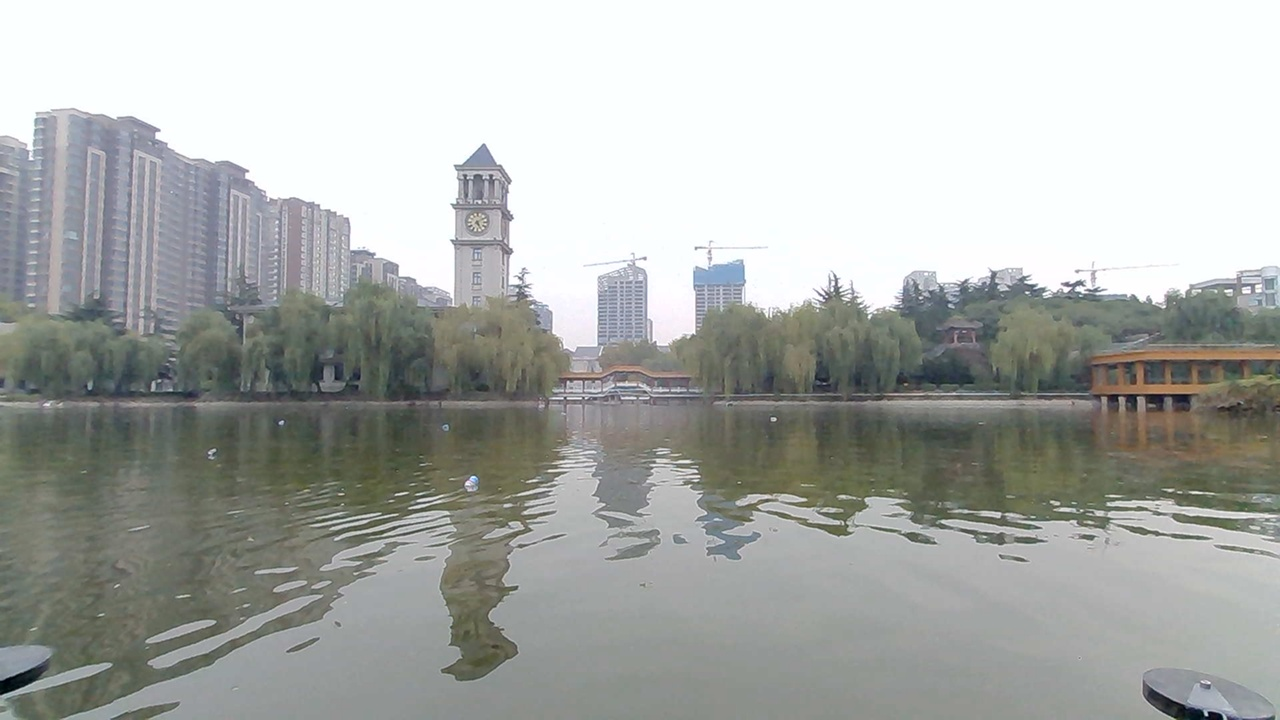bottle: (443, 465, 503, 498), (194, 444, 235, 467), (755, 408, 794, 431), (431, 415, 468, 439), (267, 411, 303, 435)
